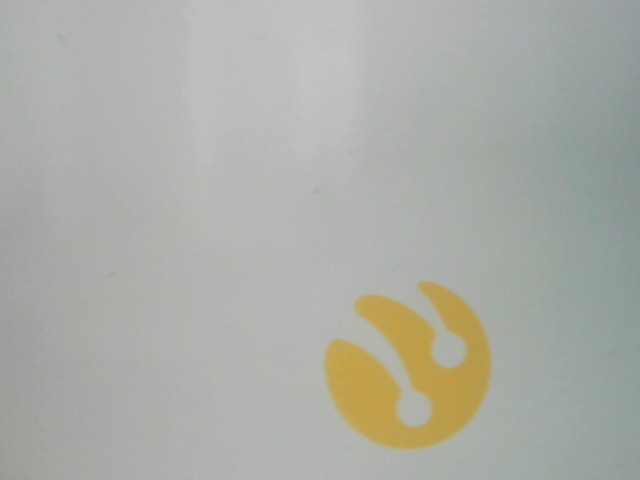AV_H3600Yellow: (311, 275, 493, 449)
